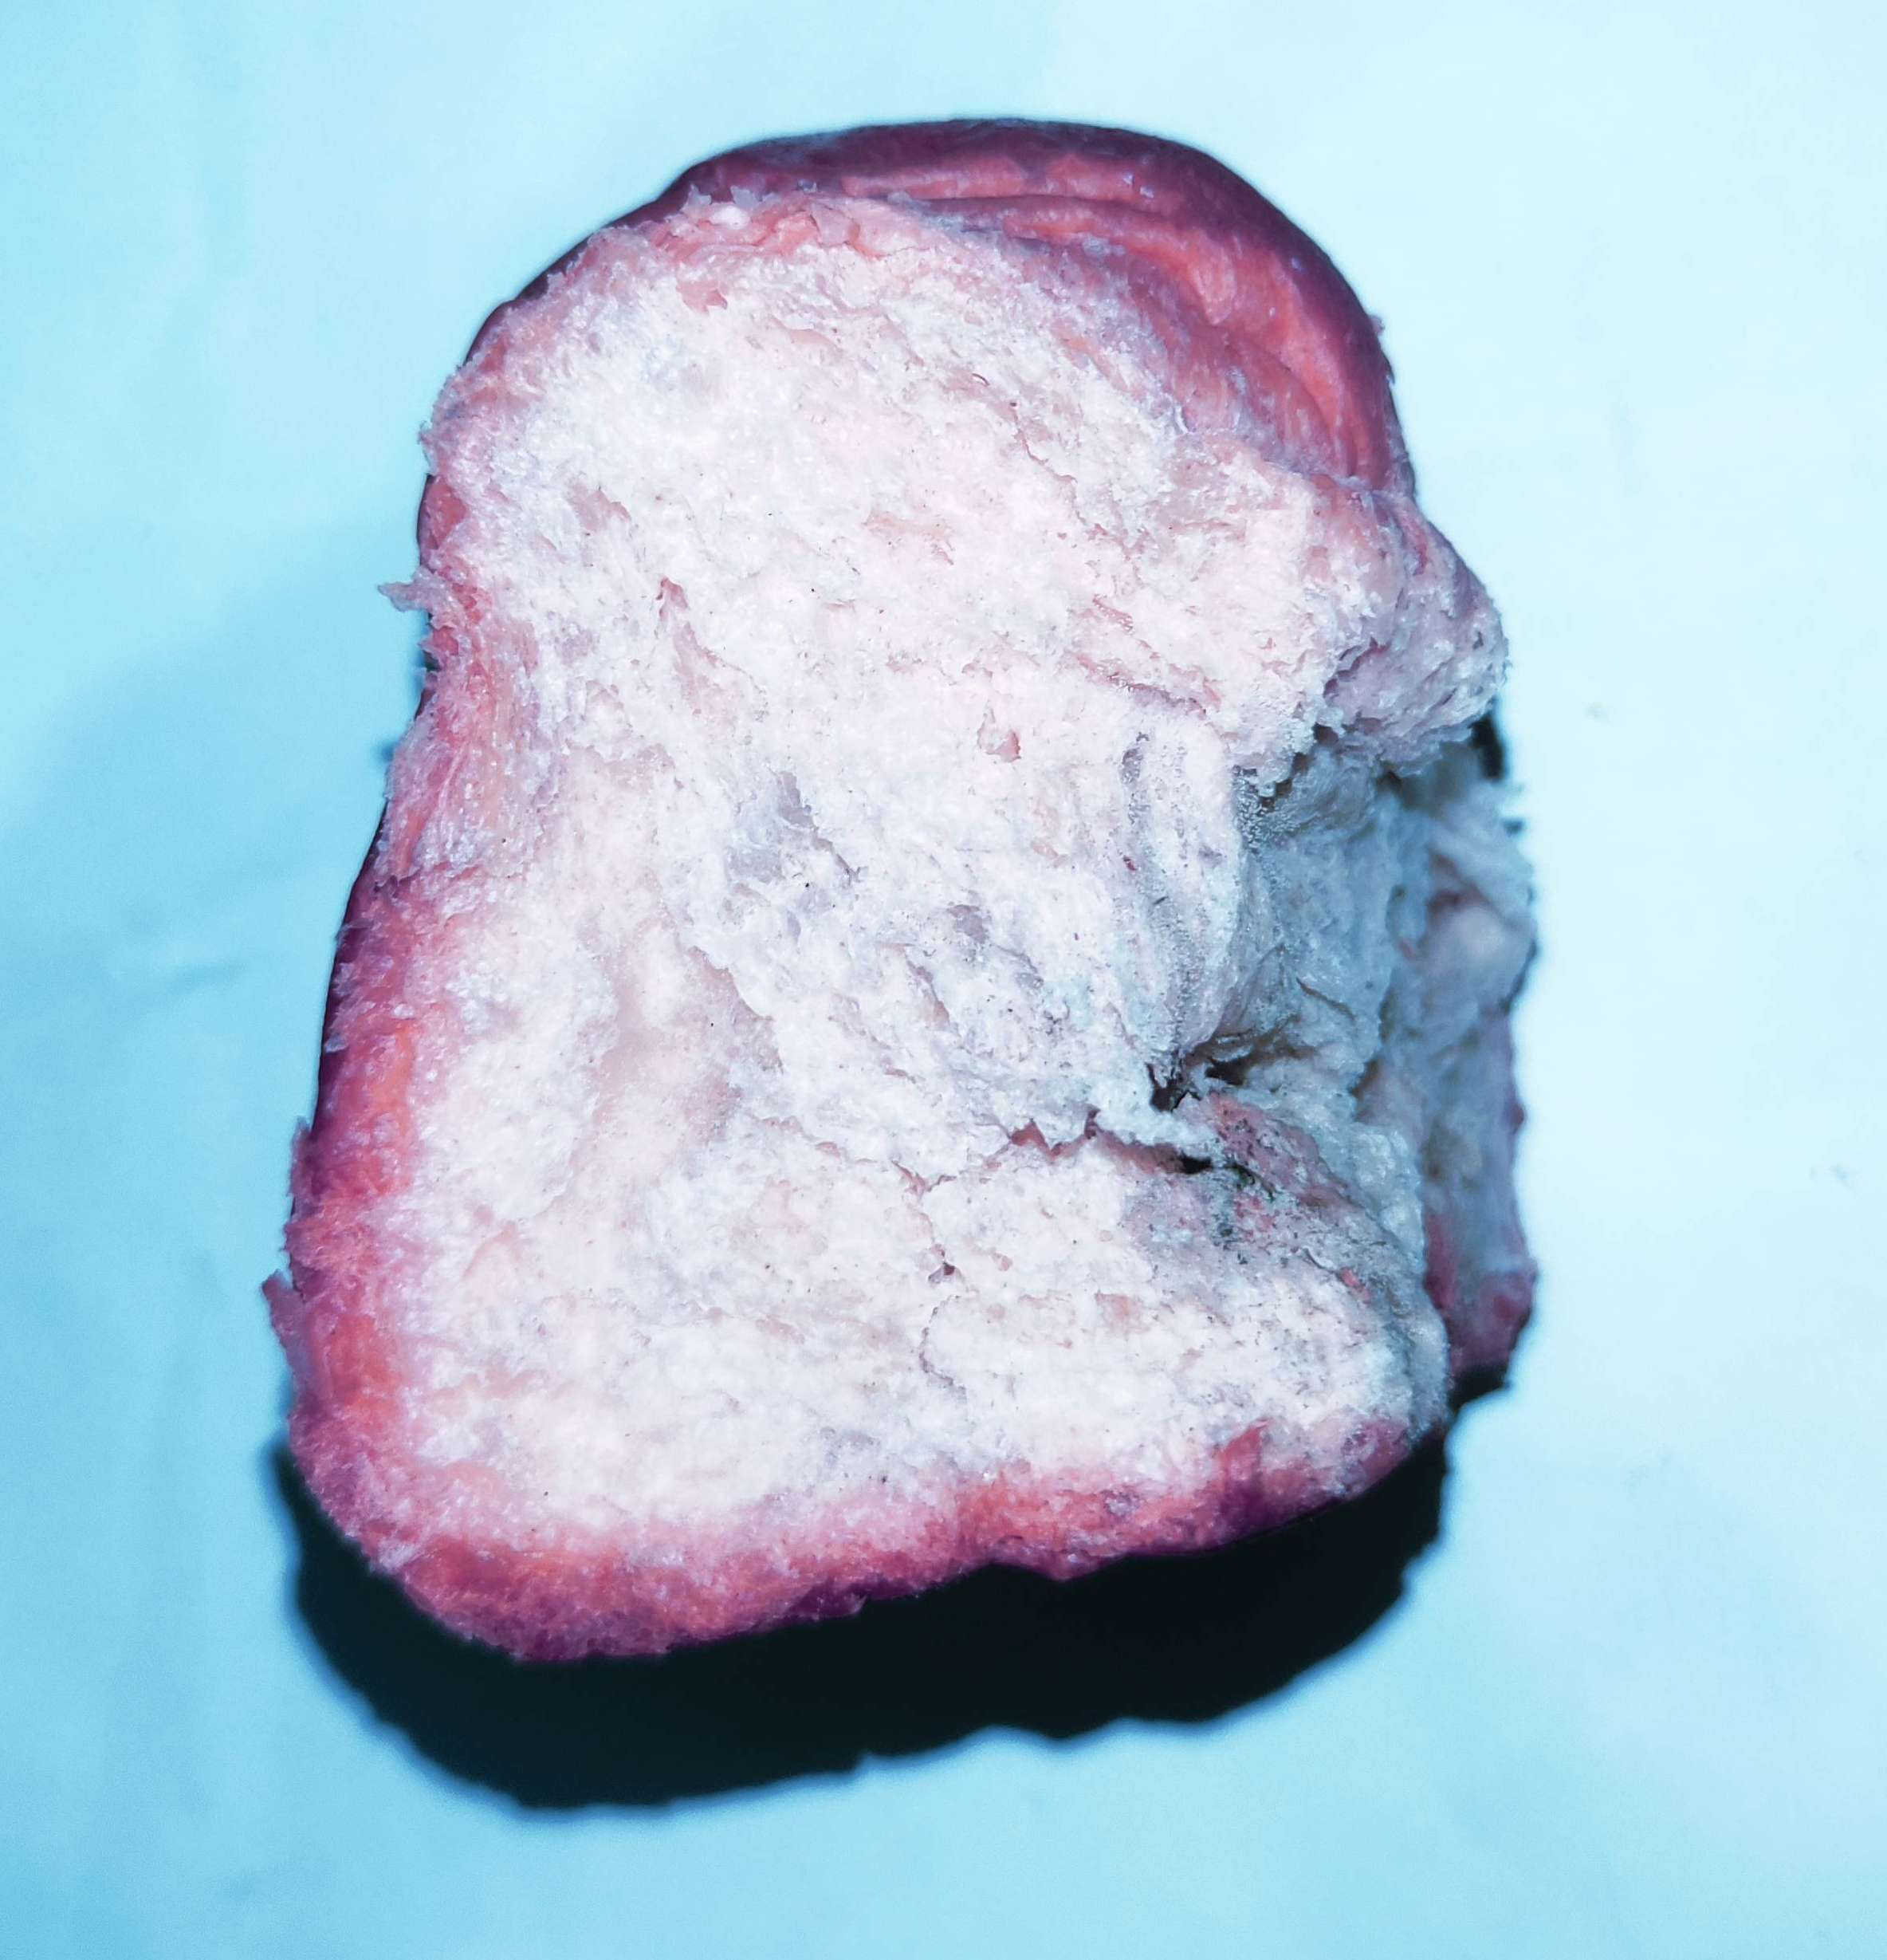mold_bread: (1093, 740, 1542, 1293), (1343, 578, 1502, 740), (902, 898, 1048, 1031), (728, 781, 850, 920), (1361, 1293, 1516, 1367)
